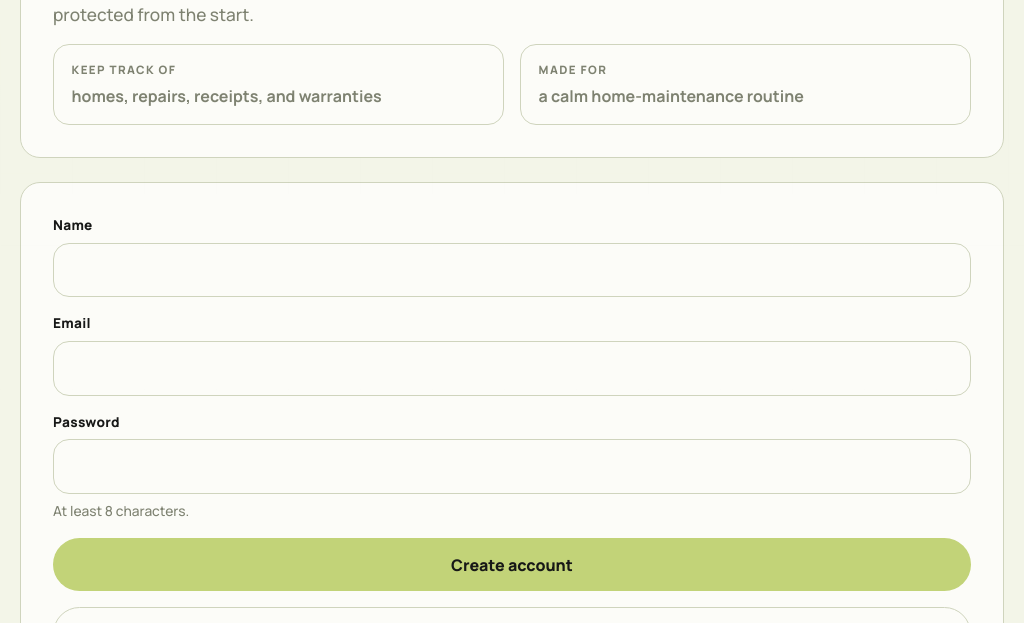
Scenario: frontend workspace › registration forwards the user to the verification screen with the submitted email
The image size is (1024, 623).
(page scrolled)
Type "Areej Khan" into the field labelled "Name".
click(512, 270); type("Areej Khan")  # box [53,243,971,297]
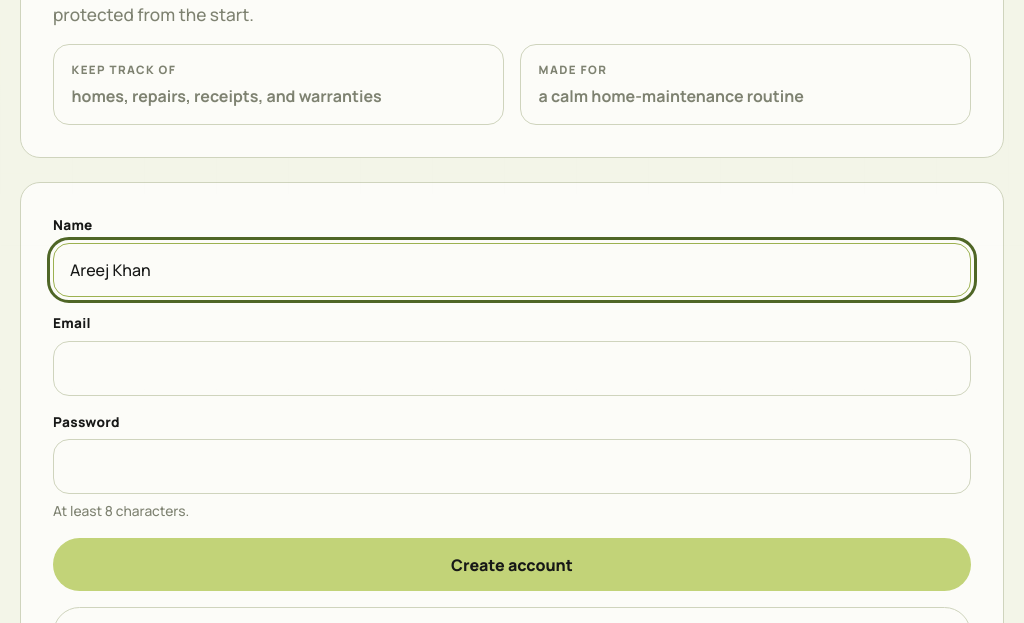
Type "new.user@example.com" into the field labelled "Email".
click(512, 368); type("new.user@example.com")  # box [53,341,971,396]
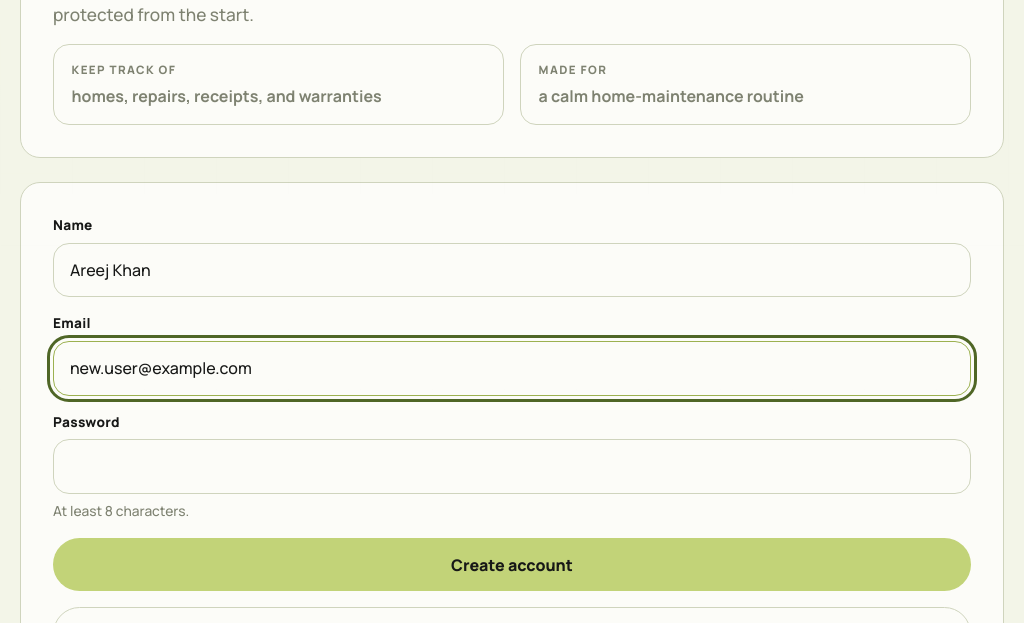
Type "StrongPass123!" into the password field labelled "Password".
click(512, 467); type("StrongPass123!")  # box [53,439,971,494]
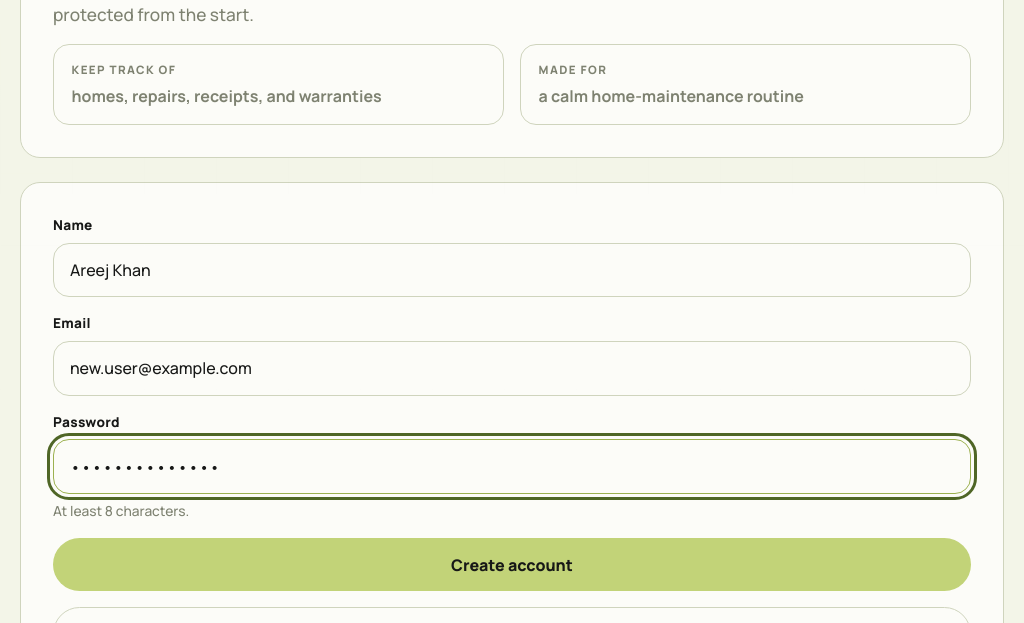
Click the button "Create account".
click(512, 564)  # box [53,538,971,591]
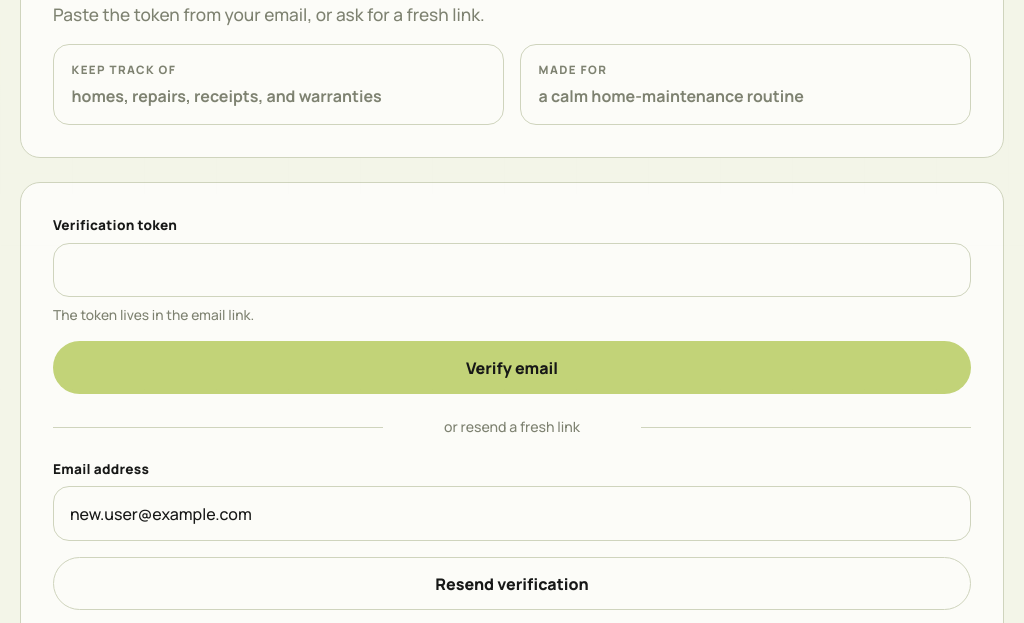
Expected: the field showing "new.user@example.com" is shown, [53,486,971,541]
